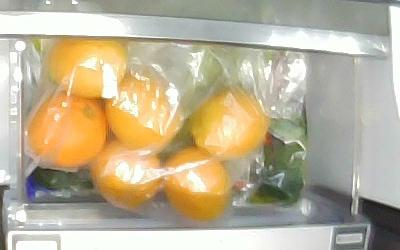orange_vinyl: (27, 92, 107, 170), (106, 71, 181, 148), (188, 86, 269, 155), (163, 144, 229, 221), (93, 137, 163, 208), (51, 42, 126, 95)
